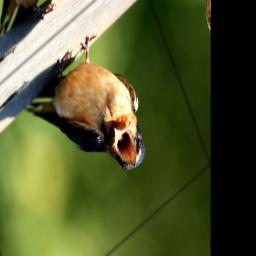Swallow: (18, 14, 158, 229)
